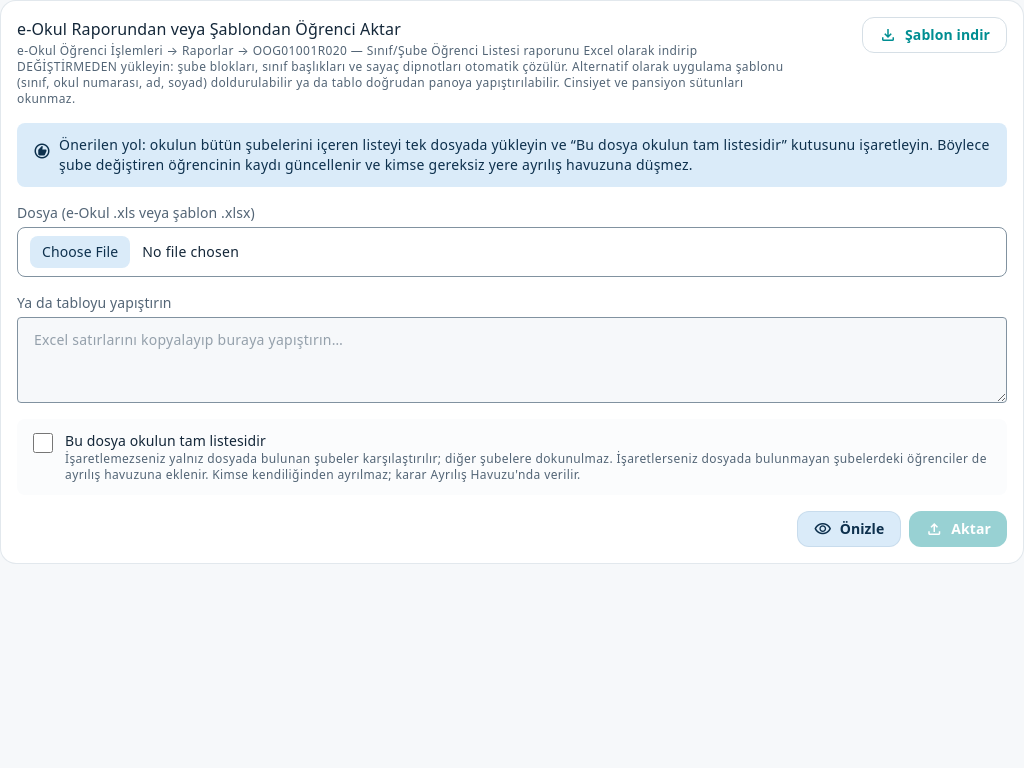
AktarimPaneli — öğrenci mutabakatı ve ayrılış havuzu › şube kapsamlı önizleme başka şubeye geçen öğrencinin geçici olarak havuza düşeceğini söyler
Type "liste" into the text box labelled "Ya da tabloyu yapıştırın".
click(512, 360); type("liste")  # box [17,317,1007,403]
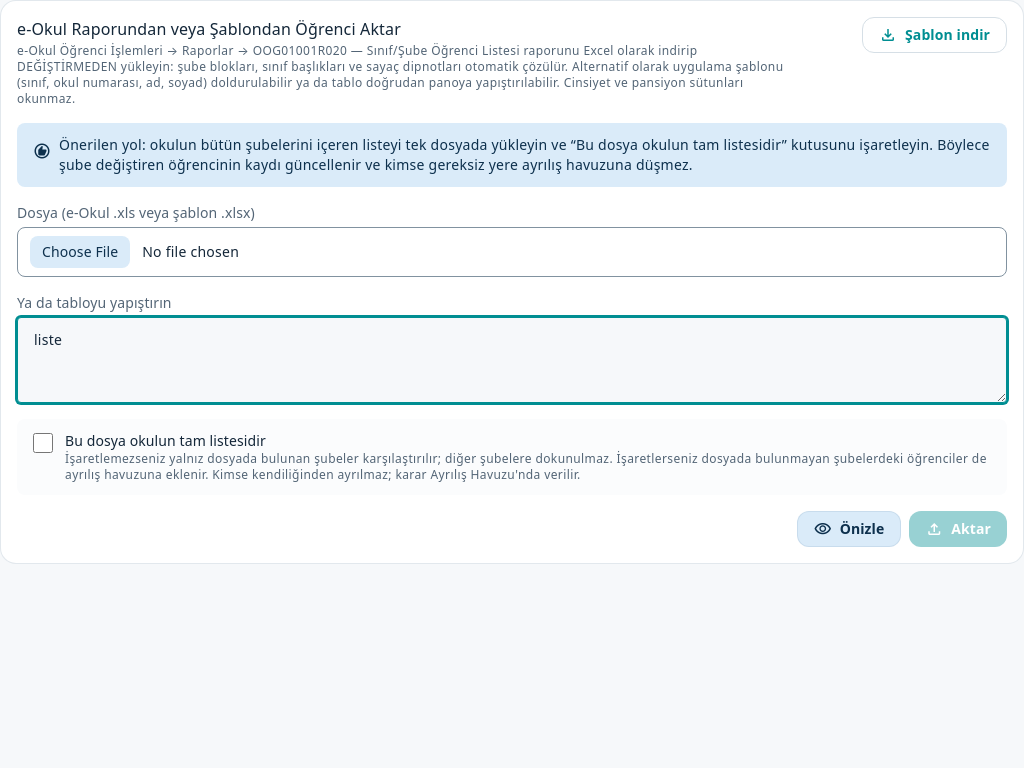
Click the button "Önizle".
click(849, 529)  # box [797,511,901,547]
(page scrolled)
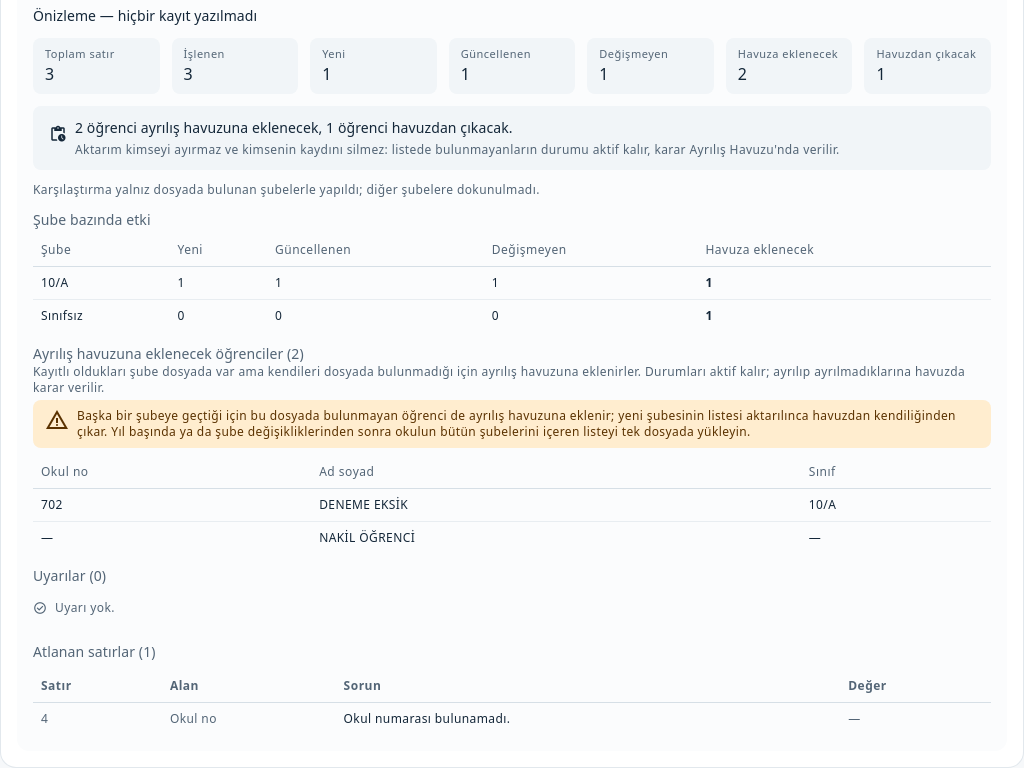
Expected: the text "Önizleme — hiçbir kayıt yazılmadı" is shown, [33,6,257,25]
Expected: the text "Kayıtlı oldukları şube dosyada var" is shown, [33,363,641,380]
Expected: the text "yeni şubesinin listesi aktarılınca havuzdan kendiliğinden çıkar" is shown, [77,407,956,440]
